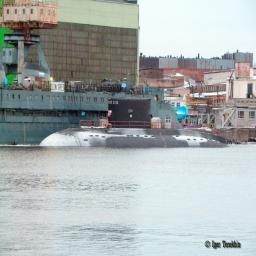submarine: (40, 97, 234, 149)
